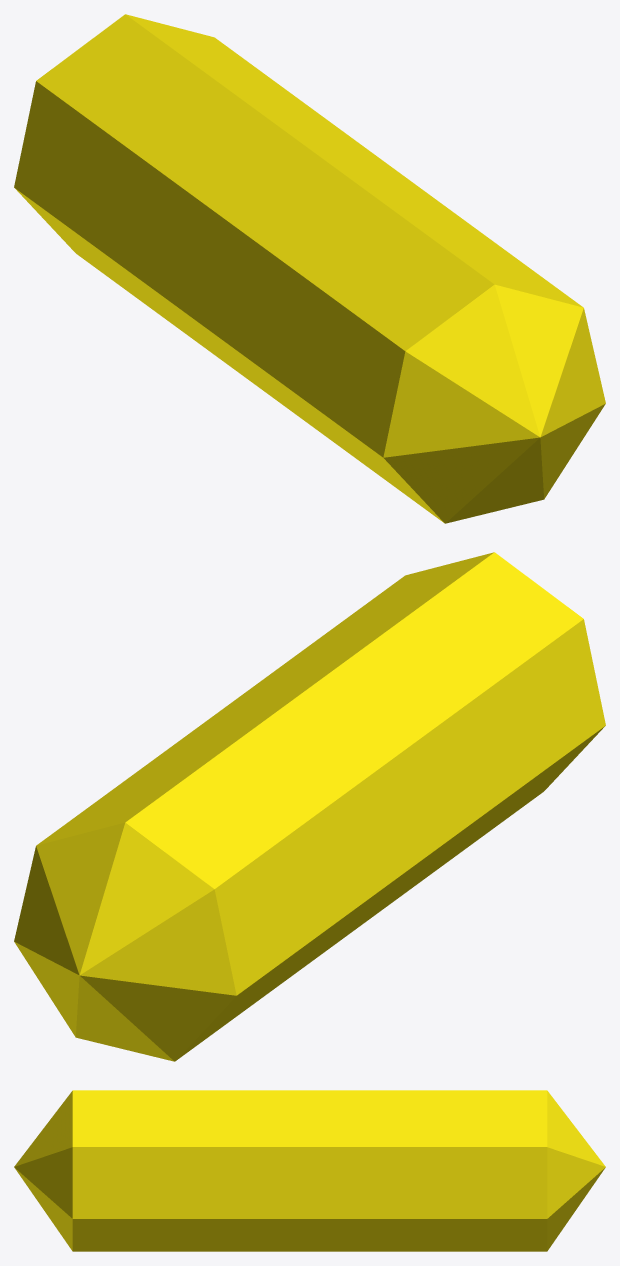
Rendered from lazor.obj.
3 views of the same model, one above another, from view 1: azimuth 30°, elevation 25°; view 2: azimuth 150°, elevation 25°; view 3: azimuth 270°, elevation 25° (orthographic). The views are drawn at different scales.
Visible parts, largest first — view 1: Cylinder; view 2: Cylinder; view 3: Cylinder.
Boxes of the visible parts, bbox=[...] form: Cylinder: bbox=[14, 14, 605, 523]; Cylinder: bbox=[14, 552, 605, 1061]; Cylinder: bbox=[14, 1090, 605, 1251].
Size of the model in its own units: 0.0367 by 0.0357 by 0.1314.
